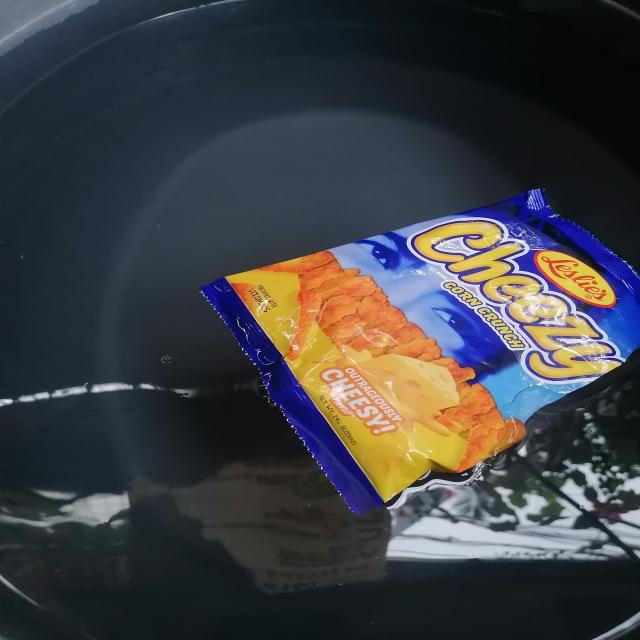Plastic Wrapper: (202, 189, 640, 513)
